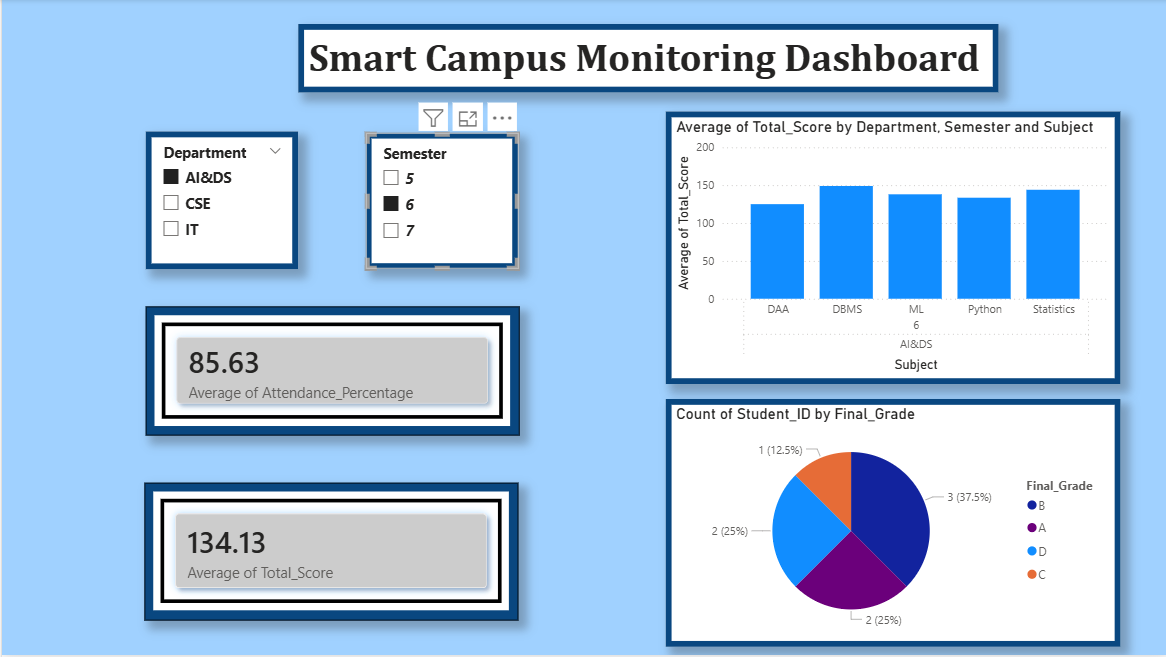

What the dashboard file says about the page in this screenshot:
{"tool":"powerbi","page":{"name":"Page 1","canvas":[1280,720],"ordinal":0},"visuals":[{"type":"textbox","box":[325.2,27.4,768.4,75.5],"z":0},{"type":"cardVisual","fields":{"Data":["Avg(5 student_performance.Attendance_Percentage)"]},"box":[157.8,337.6,410.3,141.3],"z":1000},{"type":"cardVisual","fields":{"Data":["Avg(5 student_performance.Total_Score)"]},"box":[156.4,531,410.3,150.9],"z":2000},{"type":"slicer","fields":{"Values":["5 student_performance.Department"]},"box":[157.8,145.5,167.4,150.9],"z":3000},{"type":"slicer","fields":{"Values":["5 student_performance.Semester"]},"box":[399.3,146.8,167.4,149.6],"z":4000},{"type":"clusteredColumnChart","fields":{"Y":["Avg(5 student_performance.Total_Score)"],"Category":["5 student_performance.Department","5 student_performance.Semester","5 student_performance.Subject"]},"box":[728.6,123.5,499.5,299.1],"z":5000},{"type":"pieChart","fields":{"Category":["5 student_performance.Final_Grade"],"Y":["CountNonNull(5 student_performance.Student_ID)"]},"box":[728.6,439.1,499.5,271.7],"z":6000}]}

Visuals, with their boxes in screenshot pixels (x1, y1, x2, y2), scaled from the page's 1280x720 canvas onto the 1166x657 screenshot:
textbox: <box>296,25,996,94</box>
cardVisual - Avg(5 student_performance.Attendance_Percentage): <box>144,308,518,437</box>
cardVisual - Avg(5 student_performance.Total_Score): <box>142,485,516,622</box>
slicer - 5 student_performance.Department: <box>144,133,296,270</box>
slicer - 5 student_performance.Semester: <box>364,134,516,270</box>
clusteredColumnChart - Avg(5 student_performance.Total_Score) x 5 student_performance.Department: <box>664,113,1119,386</box>
pieChart - 5 student_performance.Final_Grade x CountNonNull(5 student_performance.Student_ID): <box>664,401,1119,649</box>
